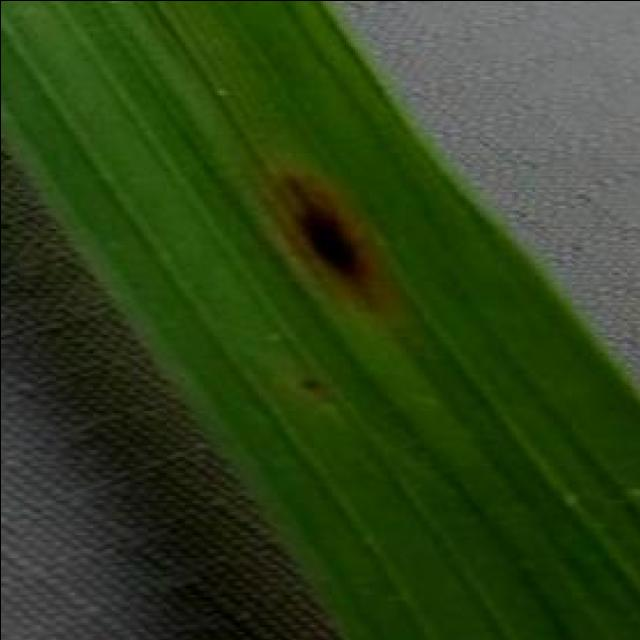Brown_Spot: (246, 150, 422, 322), (283, 362, 343, 396)
